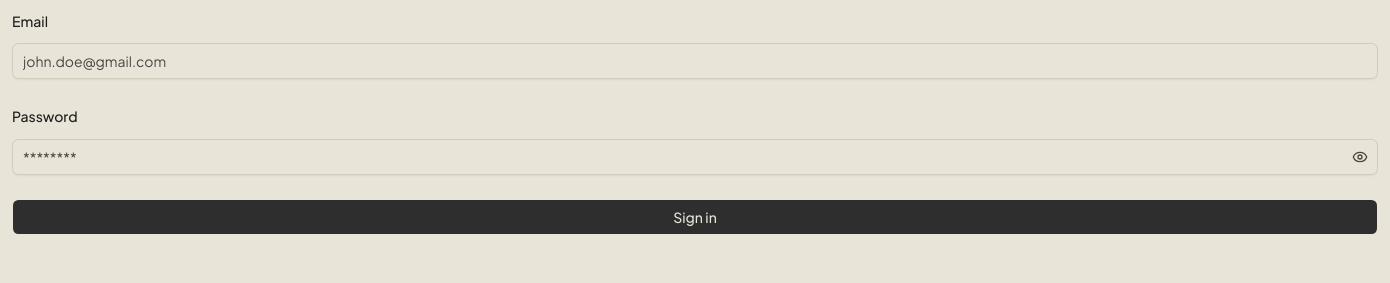
Scenario: LoginForm › should show error when email format is invalid
In the field labelled "Email": x=695, y=61 [12,43,1378,79], type "invalid-email"
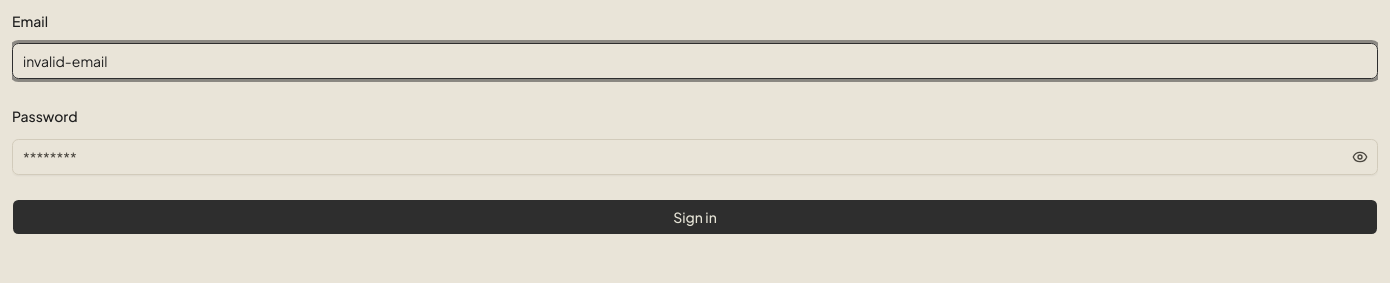
In the password field labelled "Password": x=695, y=156 [12,138,1378,174], type "password123"
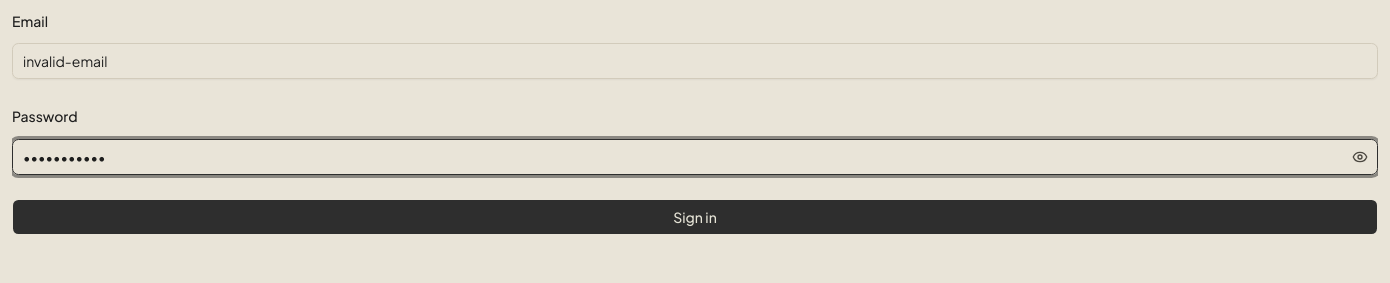
Click the button "Sign in": x=695, y=216 [12,198,1378,234]
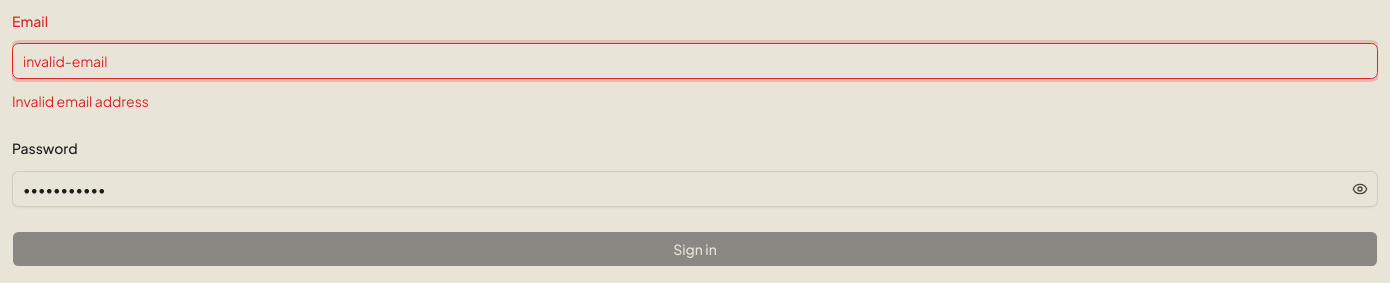
Result: the text "Invalid email address" is shown at [12,92,149,110]
